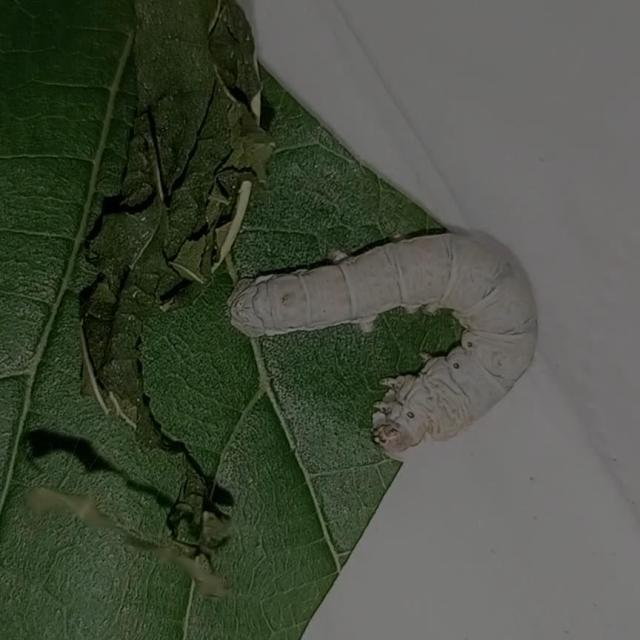Healthy: (196, 206, 588, 504)
